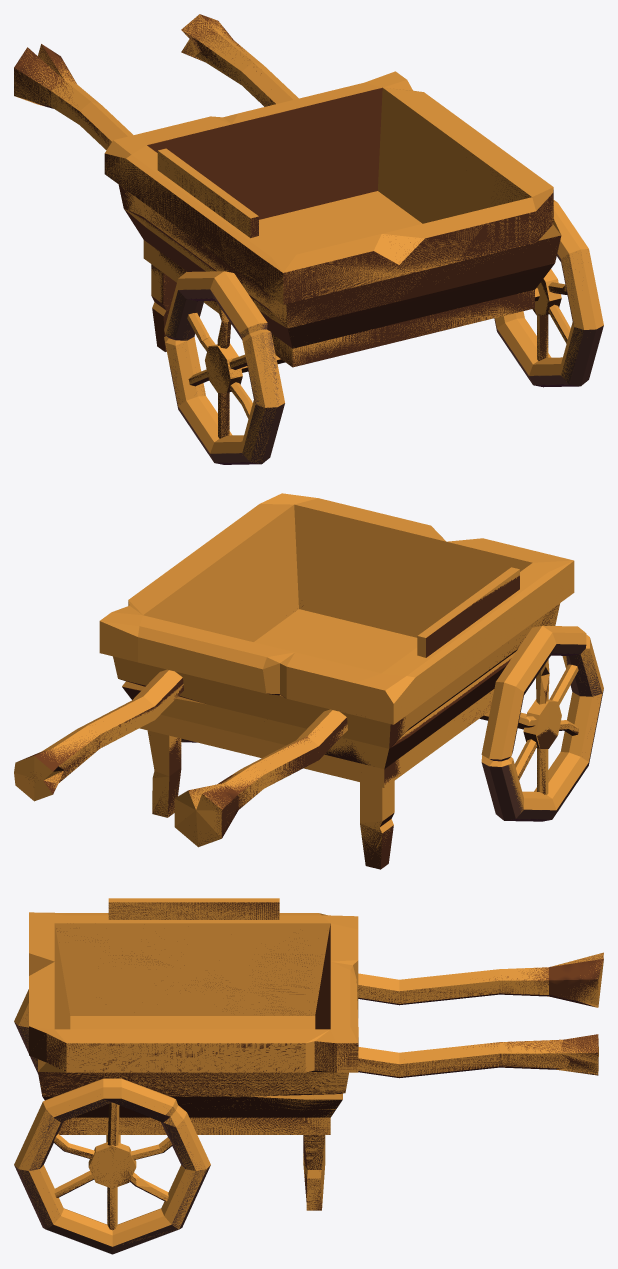
The model's file is carrinho final.fbx.
The picture shows the model from 3 angles, top to bottom: view 1: azimuth 30°, elevation 25°; view 2: azimuth 150°, elevation 25°; view 3: azimuth 270°, elevation 25°; orthographic projection. The views are drawn at different scales.
Visible parts, largest first — view 1: cart02, cart02.001; view 2: cart02, cart02.001; view 3: cart02, cart02.001.
Boxes of the visible parts, x1,y1,x2,y2 form: cart02: (14,14,603,463); cart02.001: (14,14,603,464); cart02: (14,493,603,858); cart02.001: (18,575,603,869); cart02: (14,898,603,1246); cart02.001: (14,902,603,1254).
Size of the model in its own units: 2.23 by 1.49 by 3.57.
